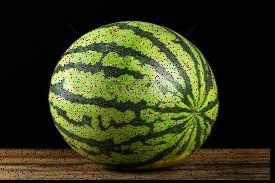watermelon: (49, 21, 217, 168)
